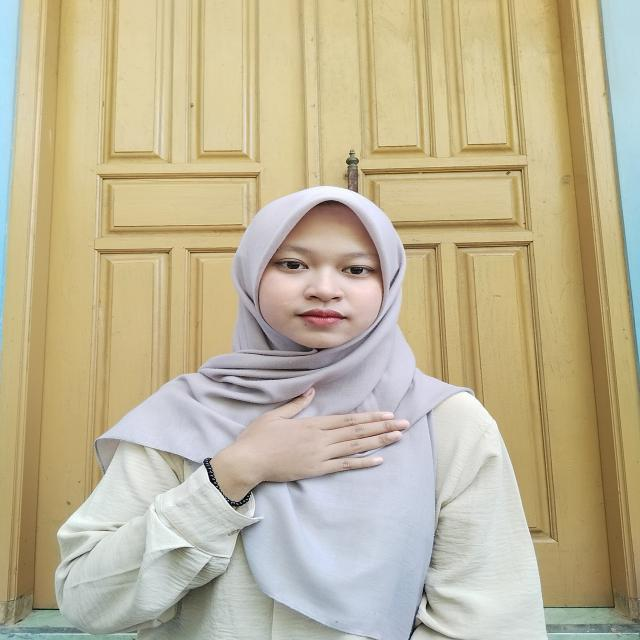tolong: (198, 382, 416, 519)
